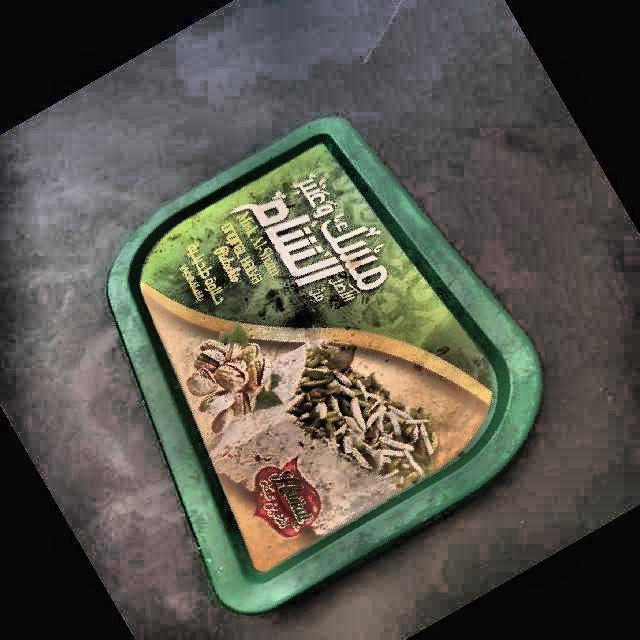plastic: (108, 118, 539, 612)
